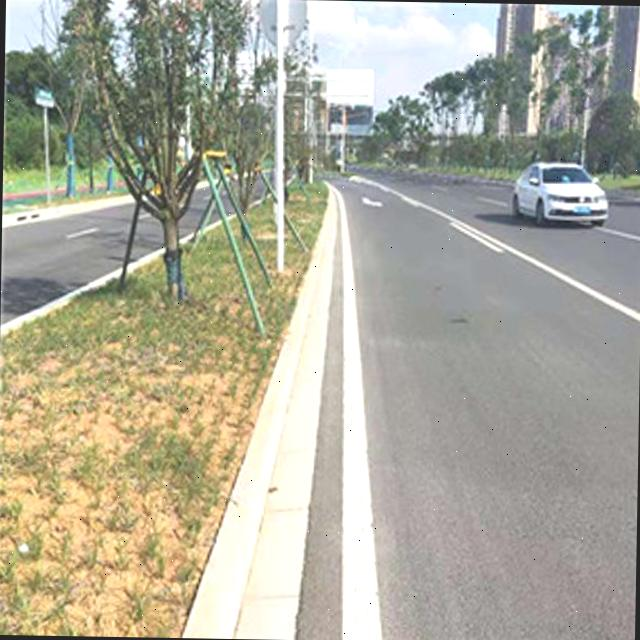curb: (183, 186, 335, 638), (0, 268, 121, 337), (2, 195, 131, 227), (127, 248, 161, 275), (197, 219, 220, 236)
